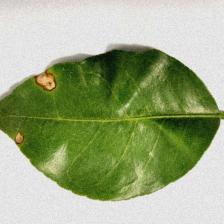canker: (4, 57, 74, 158)
